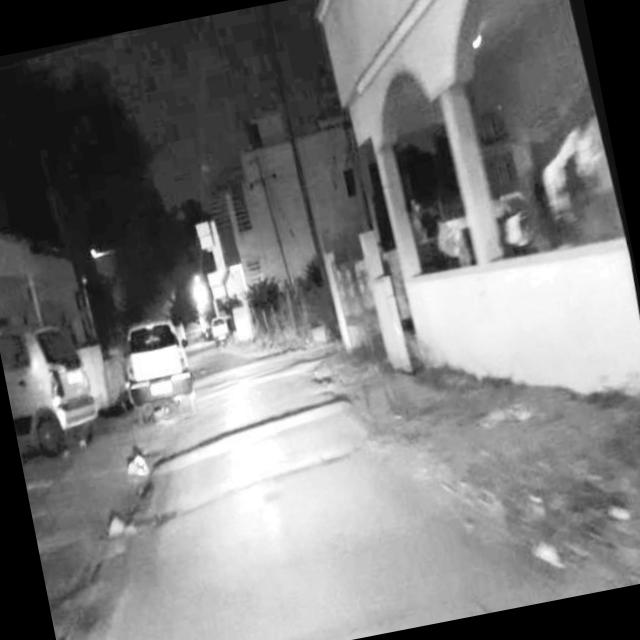Pothole: (147, 444, 356, 526), (304, 356, 343, 395)
